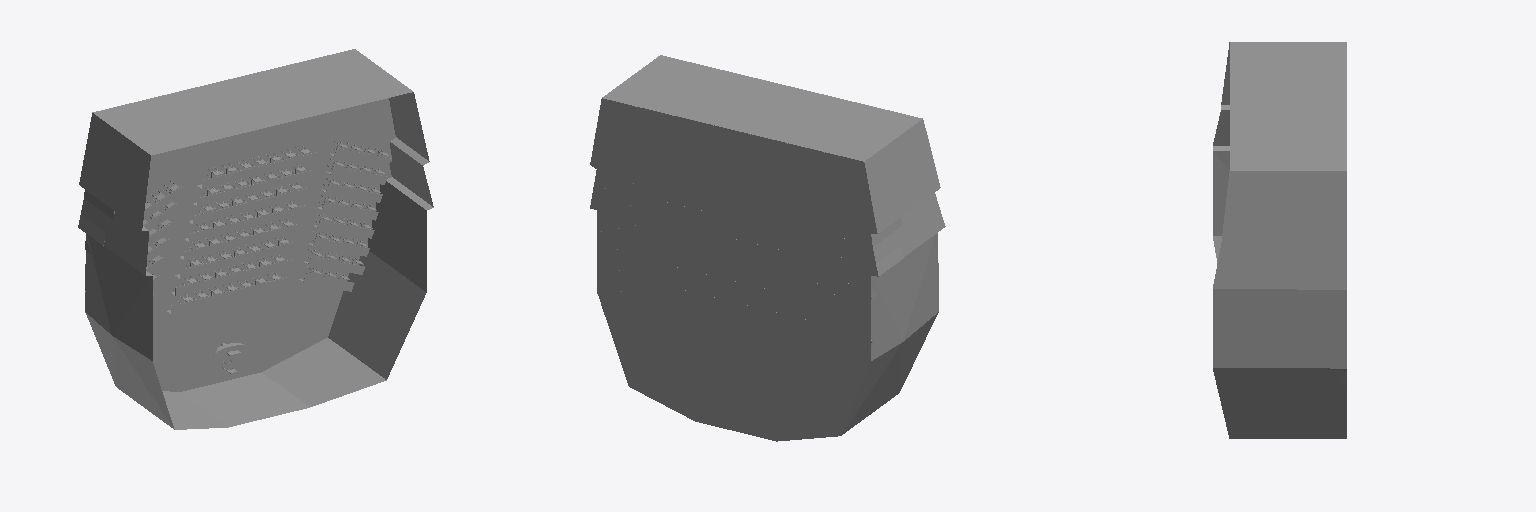
The model's file is ECL_baked.obj.
3 renders of one model, left to right at view 1: azimuth 30°, elevation 25°; view 2: azimuth 150°, elevation 25°; view 3: azimuth 270°, elevation 25°, orthographic.
Visible parts, largest first — view 1: ECL_Circle.009; view 2: ECL_Circle.009; view 3: ECL_Circle.009.
Boxes of the visible parts, x1=… form: ECL_Circle.009: x1=78, y1=49, x2=433, y2=429; ECL_Circle.009: x1=590, y1=55, x2=945, y2=441; ECL_Circle.009: x1=1213, y1=42, x2=1346, y2=438.
Bounding box in the file's own units: 39.35 × 39.22 × 15.91.